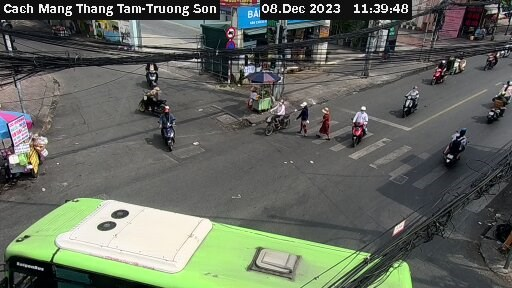bus: (2, 185, 419, 288)
motorbike: (340, 103, 379, 150), (147, 113, 191, 151), (437, 120, 470, 167), (263, 98, 299, 138), (393, 88, 433, 122), (131, 59, 171, 91), (131, 88, 171, 115), (479, 94, 508, 122), (428, 56, 450, 87), (448, 48, 472, 74), (482, 45, 503, 72), (494, 72, 512, 100)
